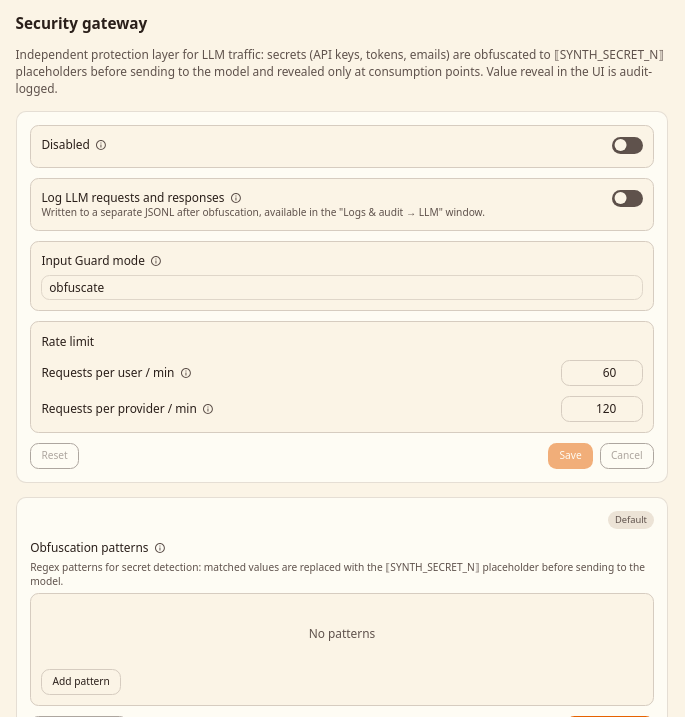
it: SecuritySettings — миграция на Settings UI Kit (ADR-072) › Save/Cancel/Reset шлюза гаснут на дефолте и активируются при изменениях; Reset дёргает API
Expected: the button with test id "security-gateway-save" is disabled, [548, 443, 593, 469]
Expected: the button with test id "security-gateway-cancel" is disabled, [600, 443, 654, 469]
Note: Меняем настройку шлюза — появляется dirty: Save/Cancel активны, Reset цветная.
Click the switch named "Disabled" at (627, 145), box [612, 137, 643, 154]
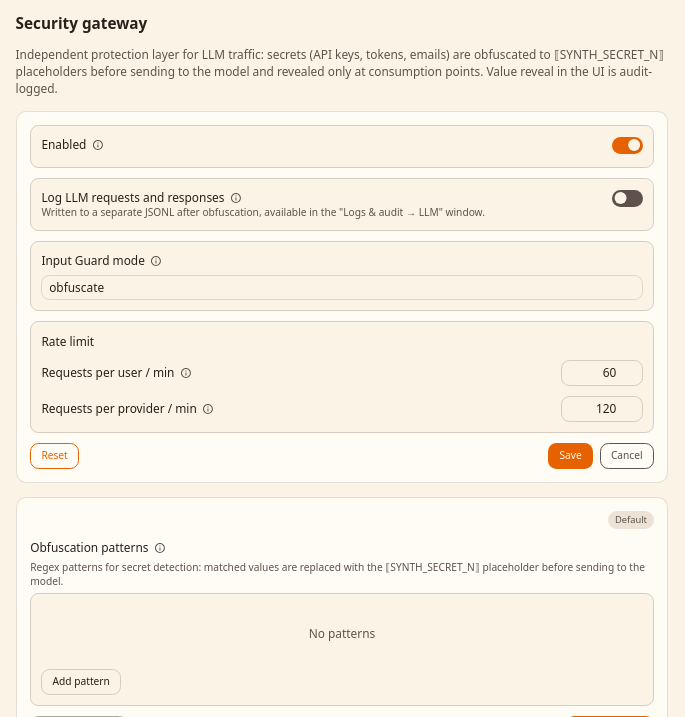
Expected: the button with test id "security-gateway-save" is enabled, [548, 443, 593, 469]
Expected: the button with test id "security-gateway-cancel" is enabled, [600, 443, 654, 469]
Expected: the button with test id "security-gateway-reset" is enabled
Click the button with test id "security-gateway-reset" at (55, 456), box [30, 443, 79, 469]
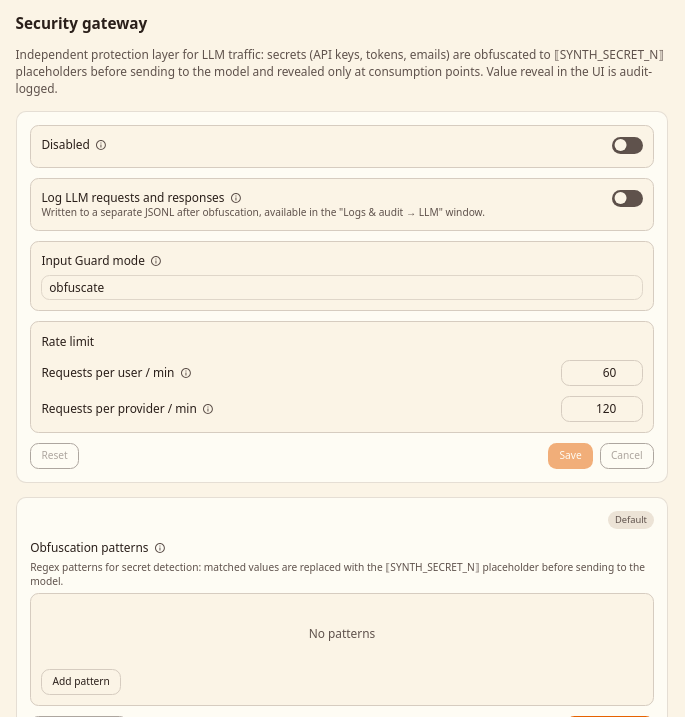
Expected: the button with test id "security-gateway-save" is disabled, [548, 443, 593, 469]
Expected: the button with test id "security-gateway-cancel" is disabled, [600, 443, 654, 469]
